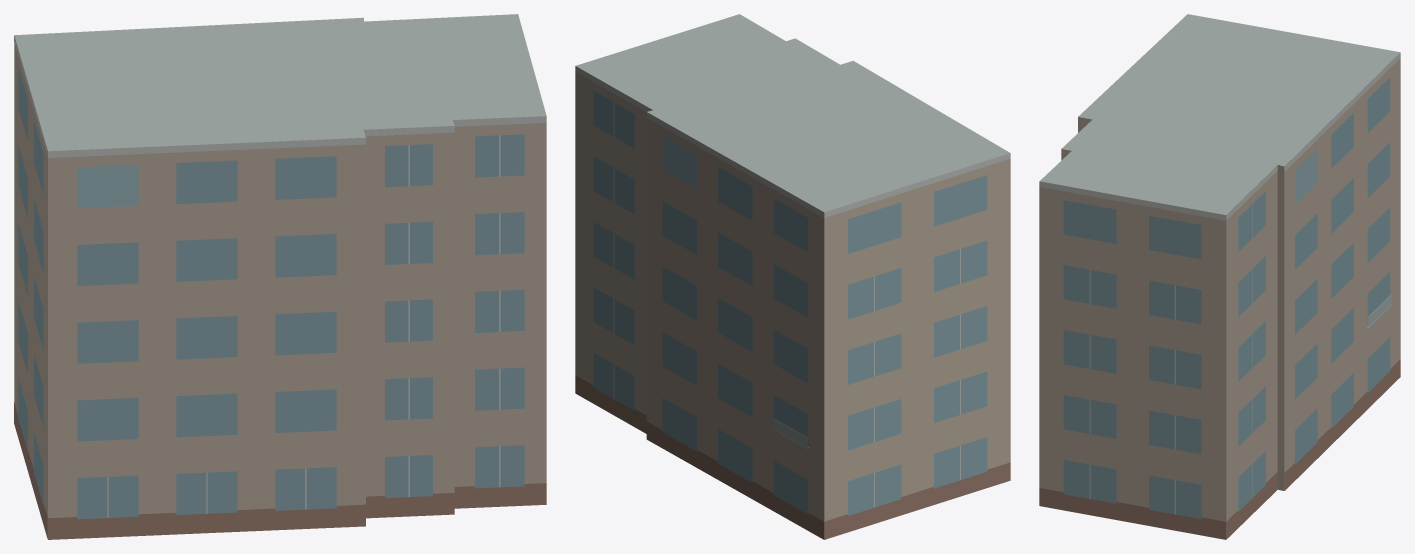
Rendered from survey-upis-32530527.glb.
3 renders of one model, left to right at view 1: azimuth 30°, elevation 25°; view 2: azimuth 150°, elevation 25°; view 3: azimuth 270°, elevation 25°, orthographic. The views are drawn at different scales.
Visible parts, largest first — view 1: survey-upis-32530527.tmp; view 2: survey-upis-32530527.tmp; view 3: survey-upis-32530527.tmp.
Boxes of the visible parts, bbox=[...] form: survey-upis-32530527.tmp: bbox=[14, 14, 546, 539]; survey-upis-32530527.tmp: bbox=[575, 14, 1010, 539]; survey-upis-32530527.tmp: bbox=[1039, 14, 1400, 539].
Bounding box in the file's own units: 18.74 × 14.1 × 14.22.
